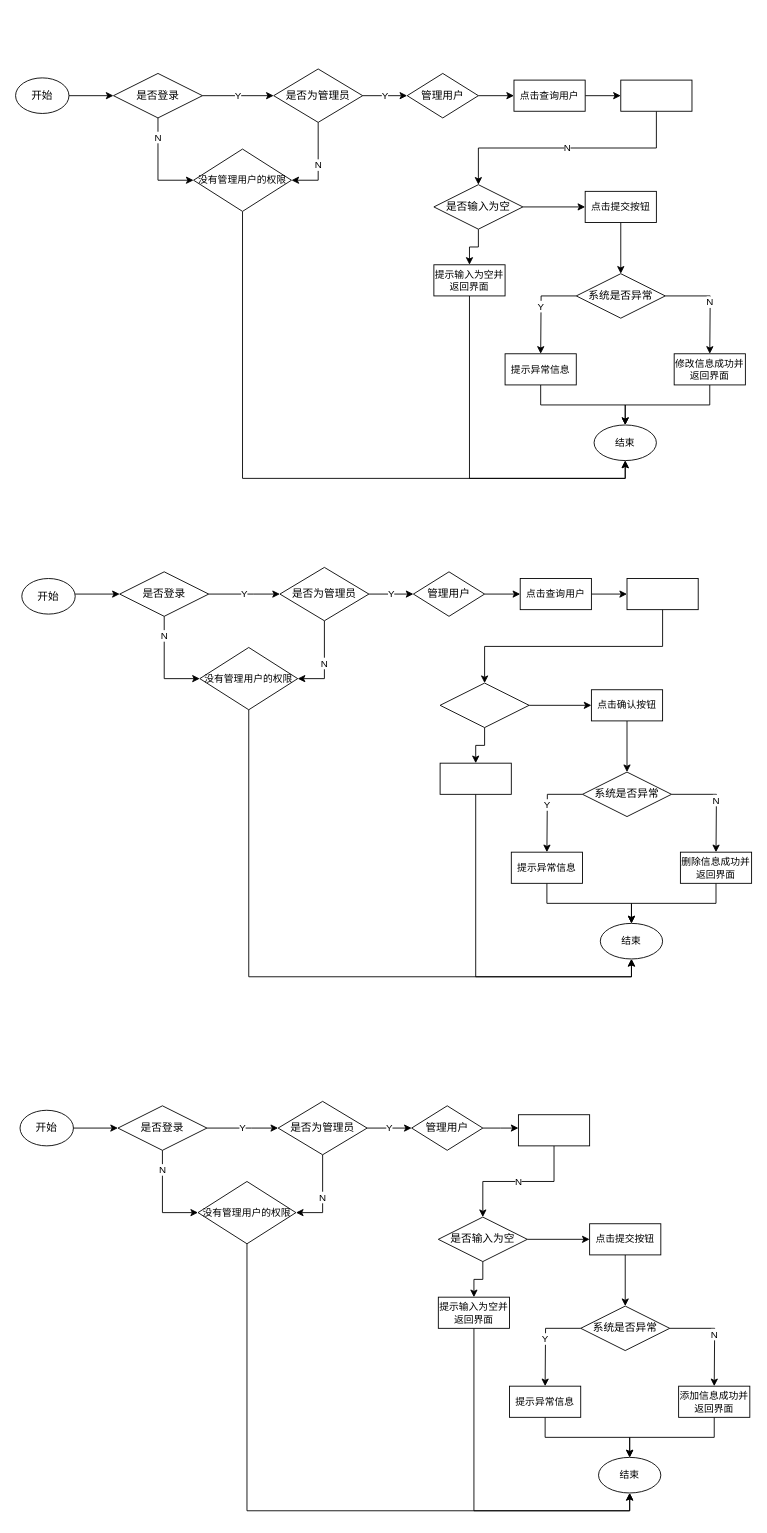
The diagram is 767 pixels wide and 1533 high, and some of its shapes have lost their labels. Here are the shapes that lost their labels. From the top down, the centre of each, then its label:
the point at 656,95: 点击修改用户
the point at 662,594: 点击删除用户
the point at 484,705: 是否确认删除
the point at 475,778: 点击取消按钮
the point at 554,1130: 点击添加用户
